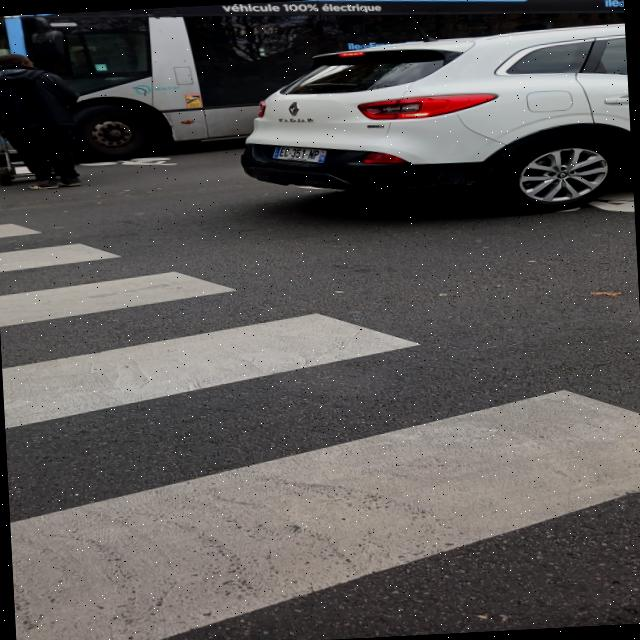EU: (273, 147, 327, 163)
France: (272, 148, 282, 158)
